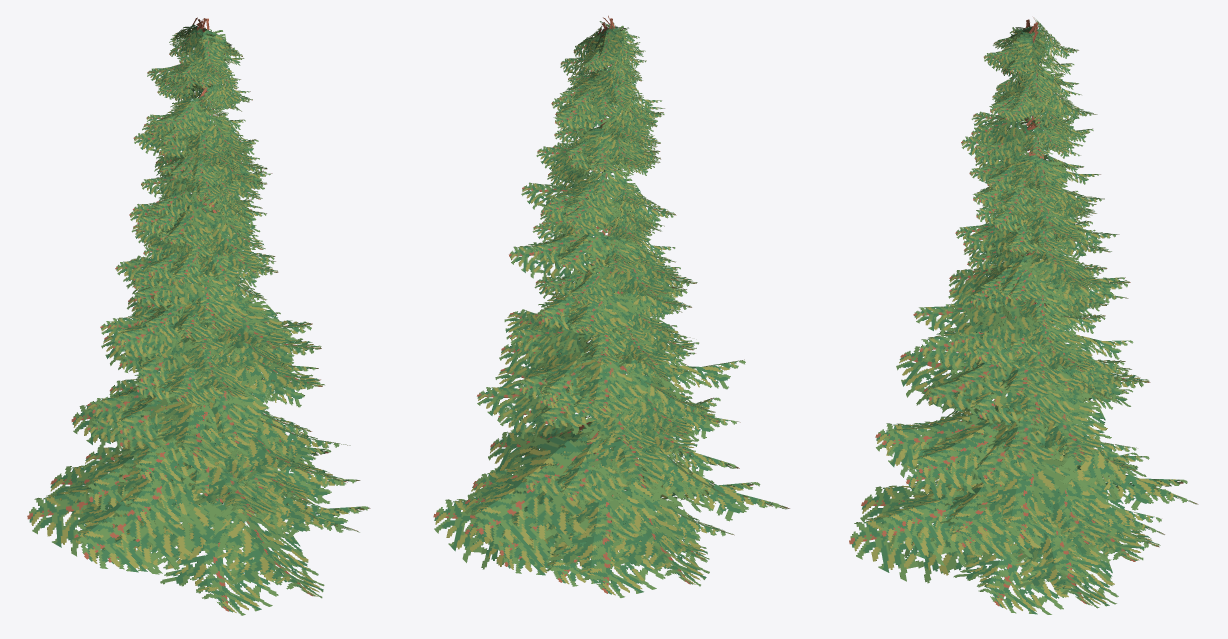
File: Tree.fbx
3 renders of one model, left to right at view 1: azimuth 30°, elevation 25°; view 2: azimuth 150°, elevation 25°; view 3: azimuth 270°, elevation 25°, orthographic.
Parts seen in each view (by area): view 1: Cube; view 2: Cube; view 3: Cube.
Boxes of the visible parts, x1,y1,x2,y2 form: Cube: (27, 17, 370, 615); Cube: (433, 15, 789, 597); Cube: (849, 17, 1198, 614).
Bounding box in the file's own units: 808 × 1365 × 791.
Materials: 1 (1 with a texture image).
